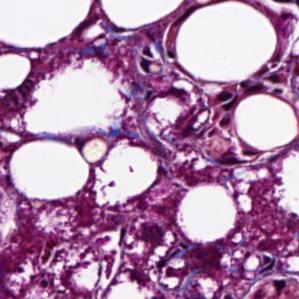inflammation: (253, 256, 289, 294), (132, 38, 164, 76), (252, 71, 287, 95), (210, 88, 239, 114)
